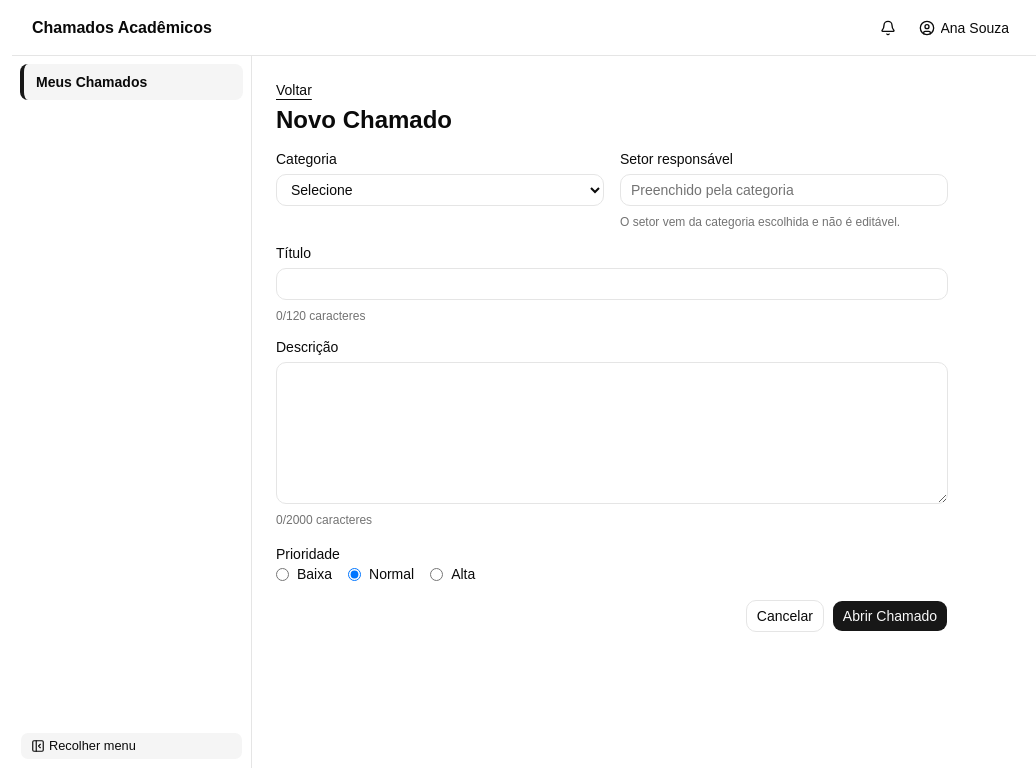
Scenario: NewTicketForm (Tela 4, US1.2, BR9.3) › opens the ticket with the texts trimmed and leads to the detail with the confirmation
The image size is (1036, 768).
Select "Documentos" in the dropdown labelled "Categoria" at (440, 190), box [276, 174, 604, 206]
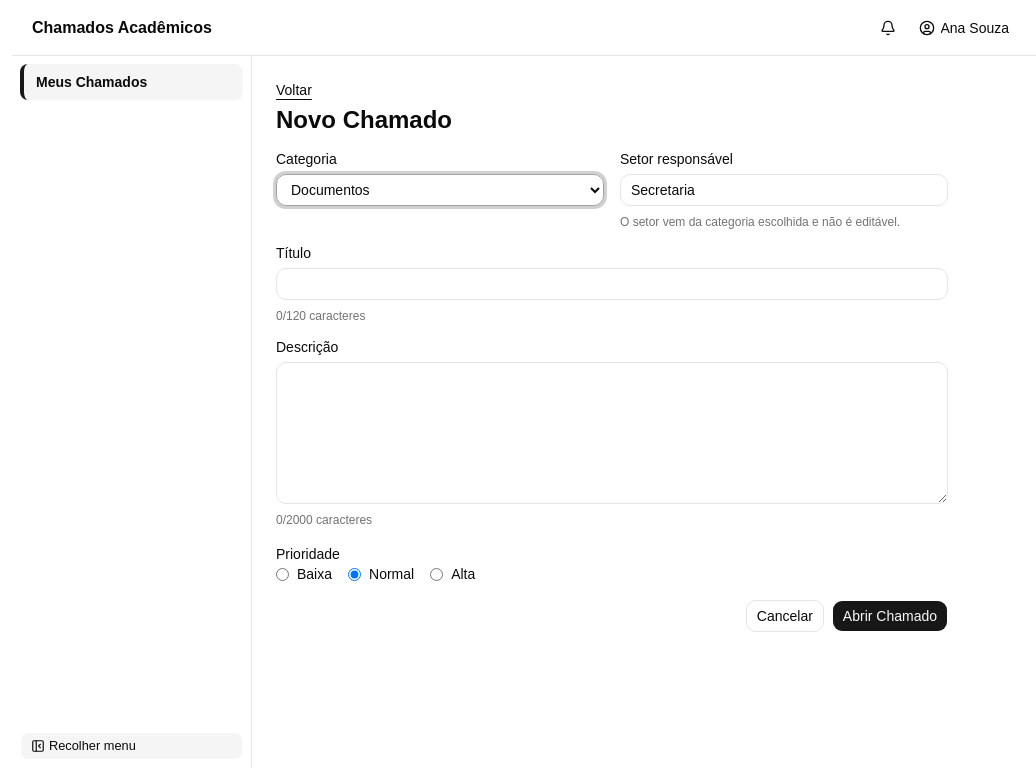
Type "  Revisão de nota  " into the field labelled "Título" at (612, 284), box [276, 268, 948, 300]
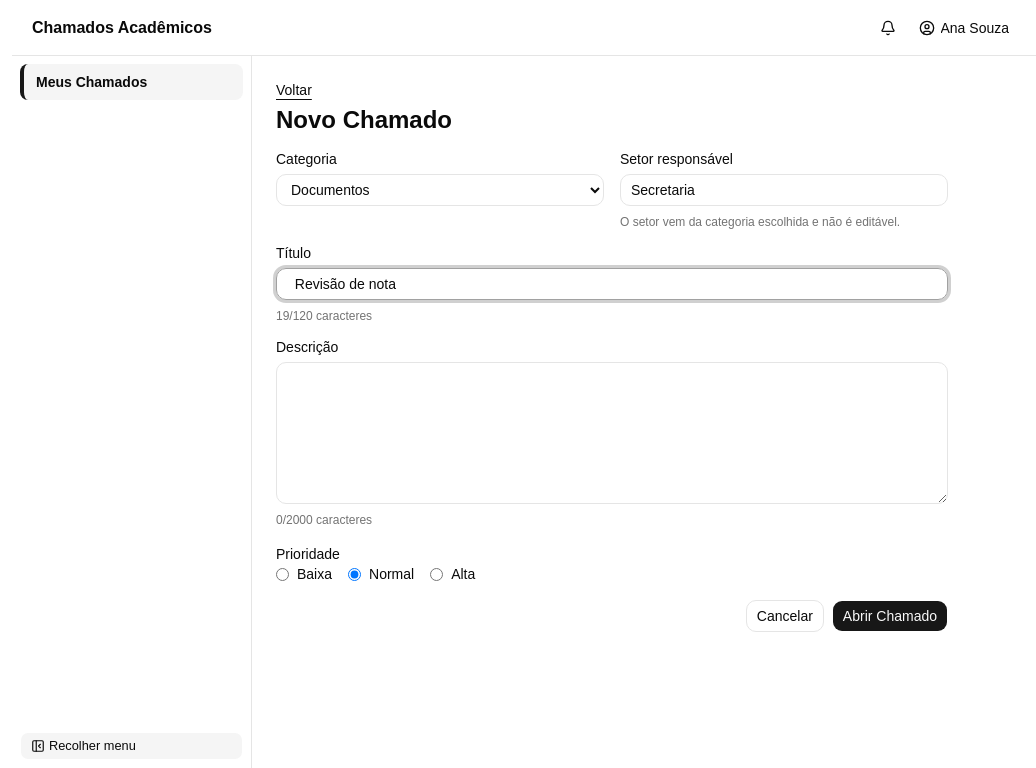
Type "  Gostaria de solicitar a revisão da nota da P2.  " into the text box labelled "Descrição" at (612, 433), box [276, 362, 948, 504]
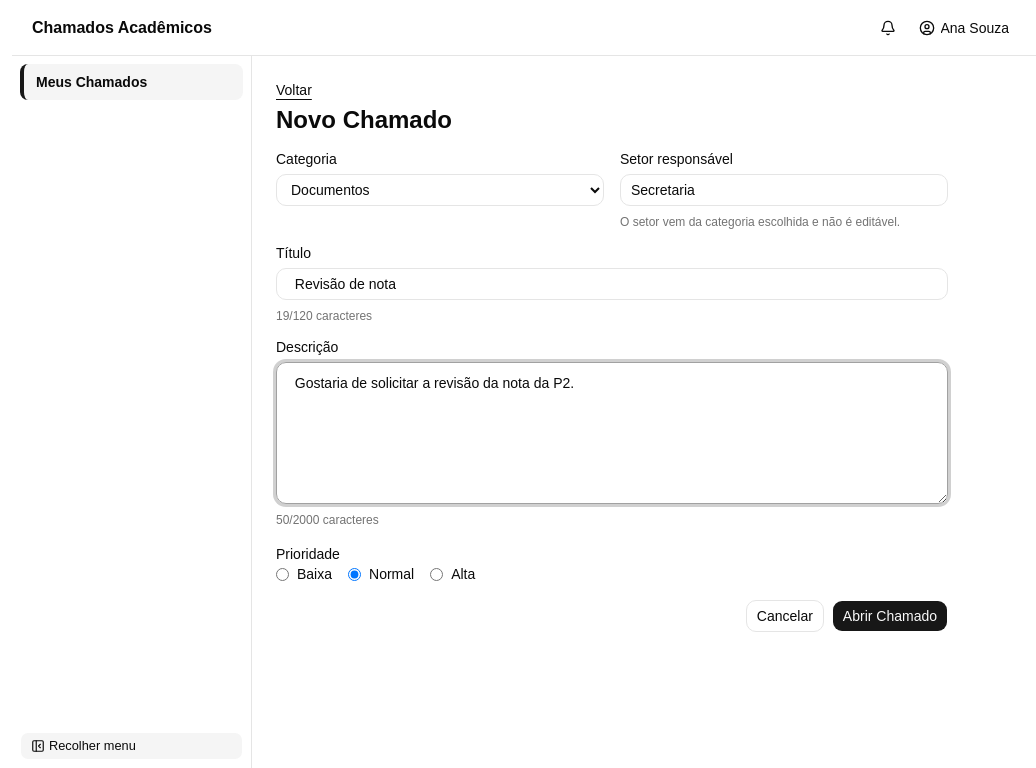
Click the button "Abrir Chamado" at (890, 616), box [832, 600, 948, 632]
(page scrolled)
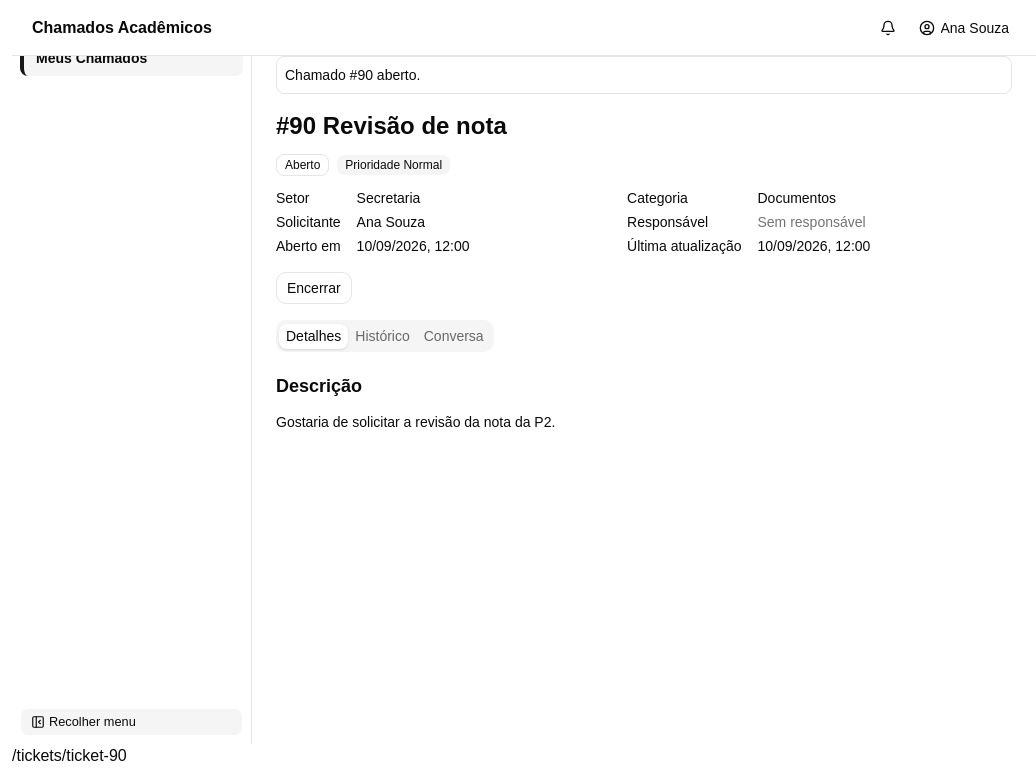
expect the message with test id "ticket-detail-notice" reads "Chamado #90 aberto.": met, box [285, 67, 420, 83]
expect the text with test id "location-probe" reads "/tickets/ticket-90": met, box [12, 747, 127, 764]
